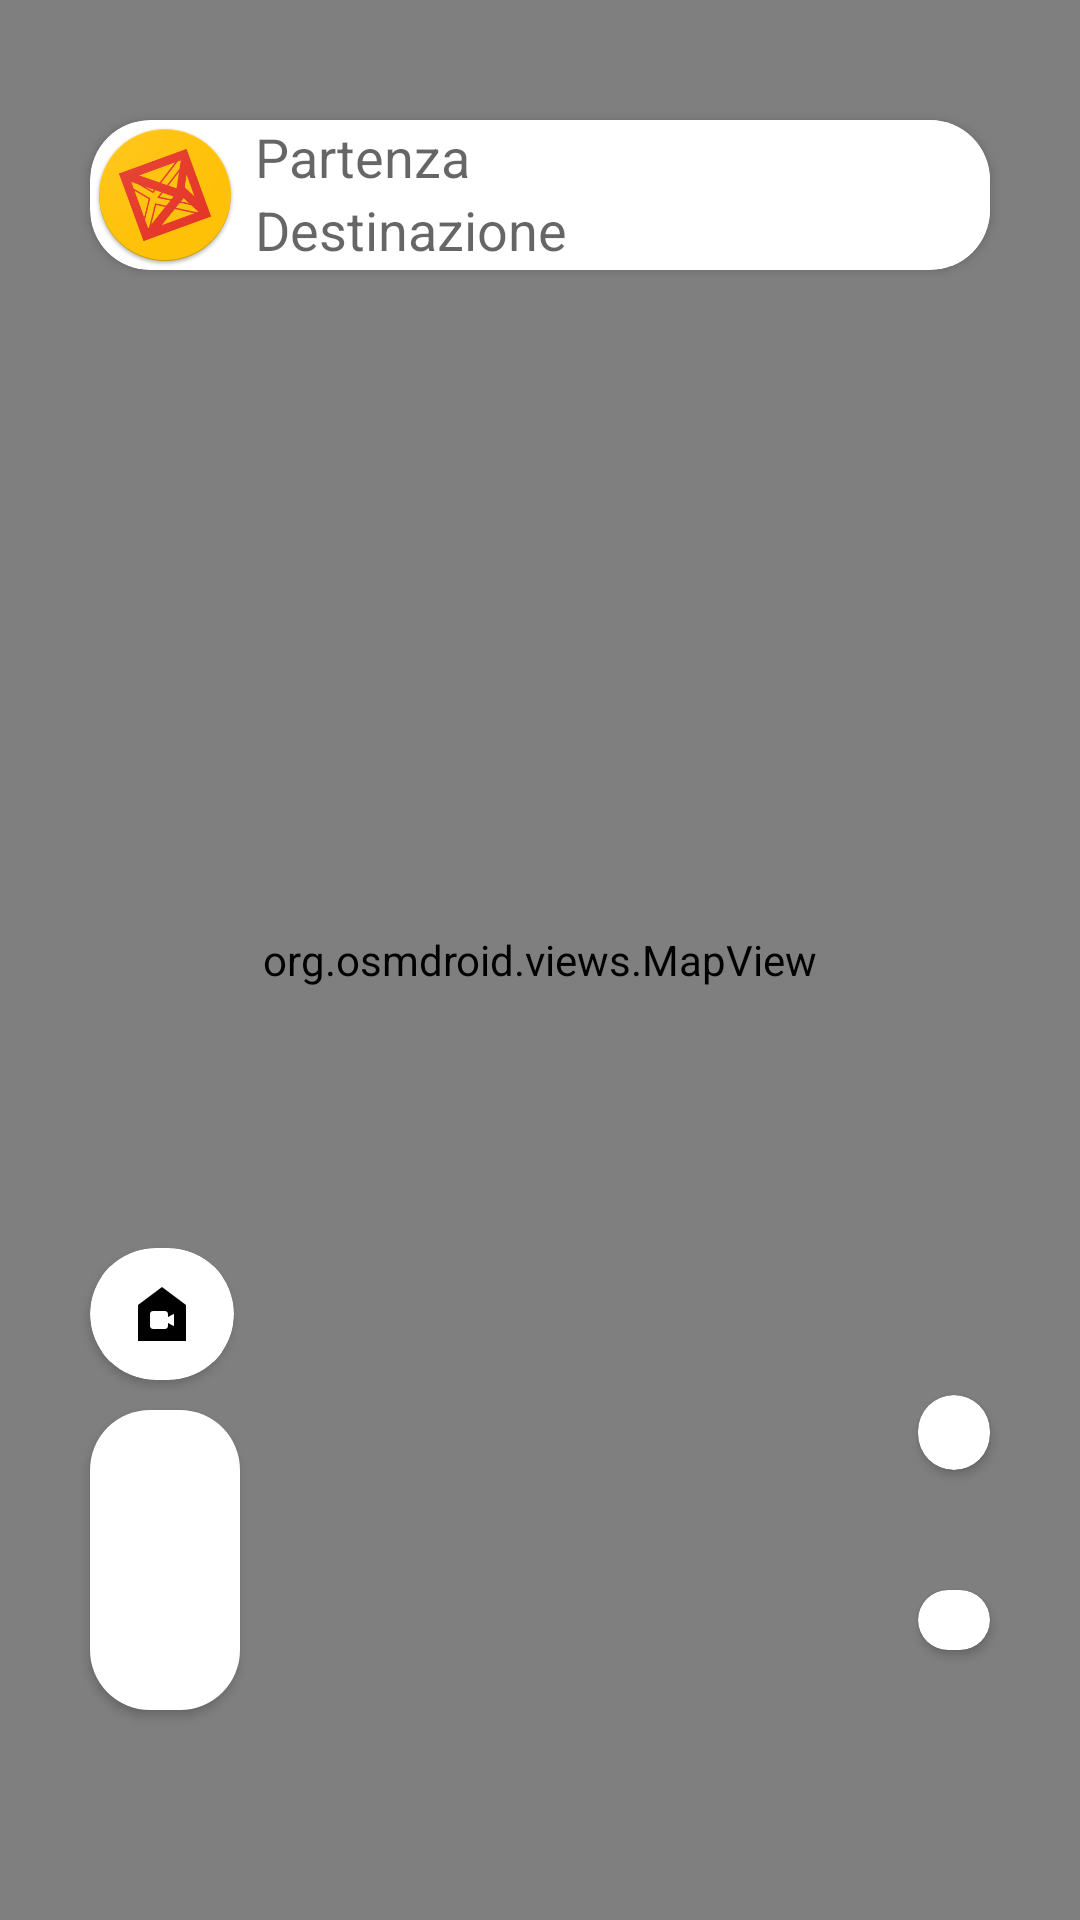

Screen size 1080w x 1920h. Icon name, then its center in pixels as (x=x, y=y):
indoor app: (x=162, y=1314)
